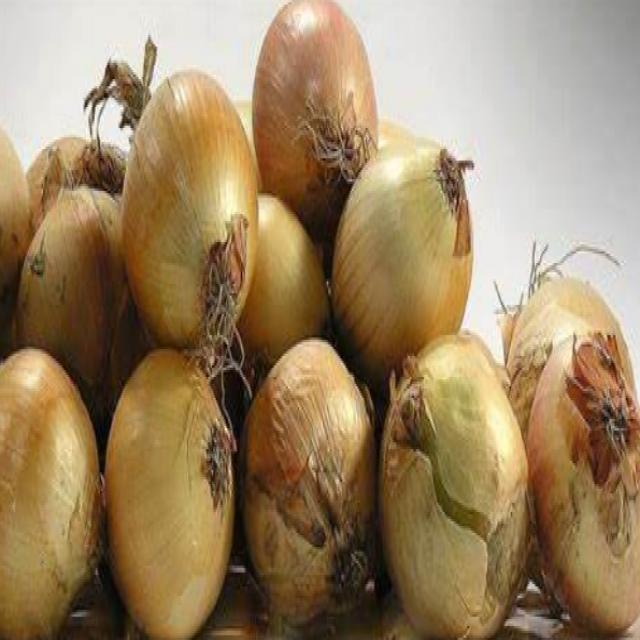rotten: (280, 454, 352, 550)
